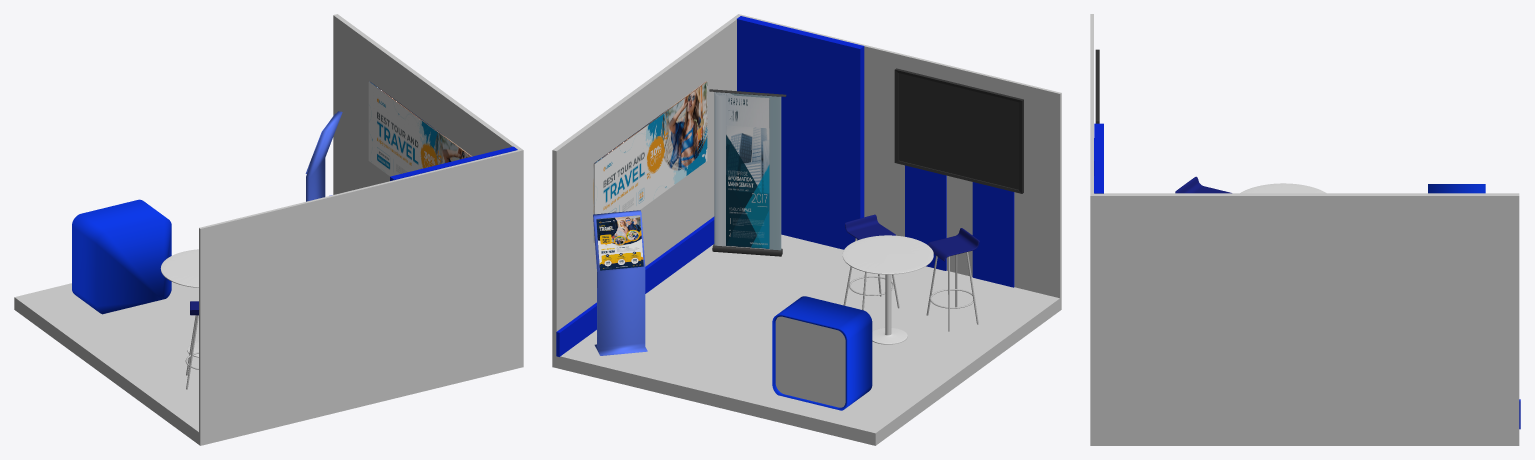
The model's file is Stand bundle.fbx.
3 views of the same model, side by side, from view 1: azimuth 30°, elevation 25°; view 2: azimuth 150°, elevation 25°; view 3: azimuth 270°, elevation 25° (orthographic). The views are drawn at different scales.
Visible parts, largest first — view 1: Cube, Cube.014, Cube.004, Cube.011, Cube.002, Circle, Cube.003; view 2: Cube, Cube.014, Cube.003, Cube.010, Cube.009, Cube.011, stand product, Cube.002, Cube.004, Cube.013, Circle, Cube.012 (+5 smaller); view 3: Cube, Cube.003, Circle, Cube.004, Cube.005.
Boxes of the visible parts, x1=… form: Cube: x1=14, y1=14, x2=523, y2=445; Cube.014: x1=14, y1=282, x2=198, y2=431; Cube.004: x1=72, y1=199, x2=171, y2=314; Cube.011: x1=368, y1=81, x2=472, y2=176; Cube.002: x1=305, y1=111, x2=342, y2=201; Circle: x1=160, y1=249, x2=198, y2=357; Cube.003: x1=390, y1=146, x2=517, y2=180; Cube: x1=552, y1=14, x2=1061, y2=445; Cube.014: x1=560, y1=234, x2=1059, y2=433; Cube.003: x1=737, y1=16, x2=864, y2=249; Cube.010: x1=894, y1=68, x2=1023, y2=193; Cube.009: x1=714, y1=92, x2=781, y2=250; Cube.011: x1=593, y1=81, x2=707, y2=242; stand product: x1=775, y1=316, x2=845, y2=407; Cube.002: x1=593, y1=210, x2=647, y2=355; Cube.004: x1=772, y1=296, x2=872, y2=410; Cube.013: x1=972, y1=182, x2=1014, y2=287; Circle: x1=842, y1=235, x2=933, y2=344; Cube.012: x1=905, y1=165, x2=946, y2=270; Cube: x1=1090, y1=14, x2=1519, y2=445; Cube.003: x1=1094, y1=123, x2=1103, y2=193; Circle: x1=1240, y1=183, x2=1326, y2=193; Cube.004: x1=1428, y1=184, x2=1485, y2=193; Cube.005: x1=1175, y1=176, x2=1231, y2=193.
Bounding box in the file's own units: 1978 × 1271 × 1978.
17 materials, 3 textured.
